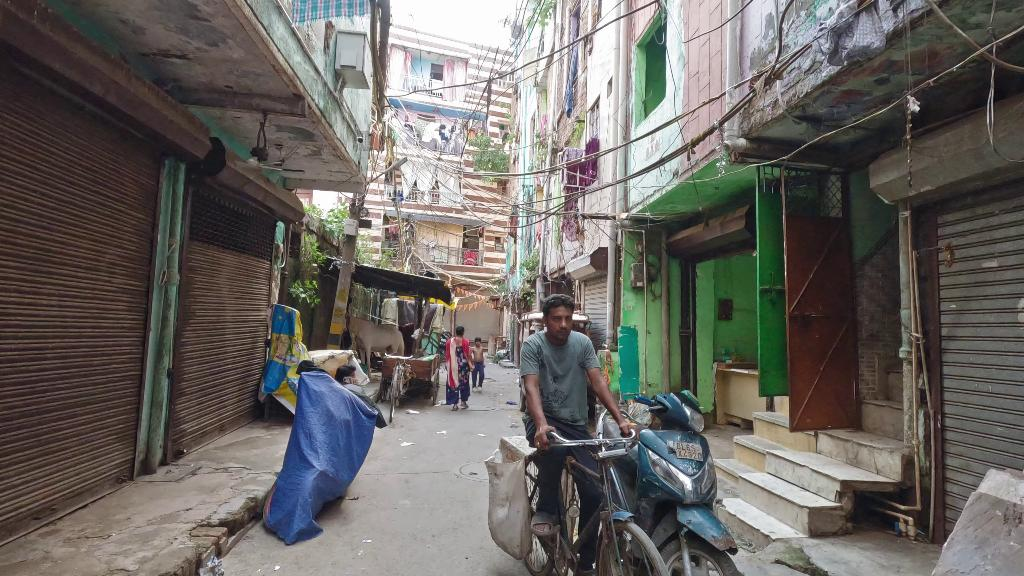garbage: (486, 444, 535, 563)
